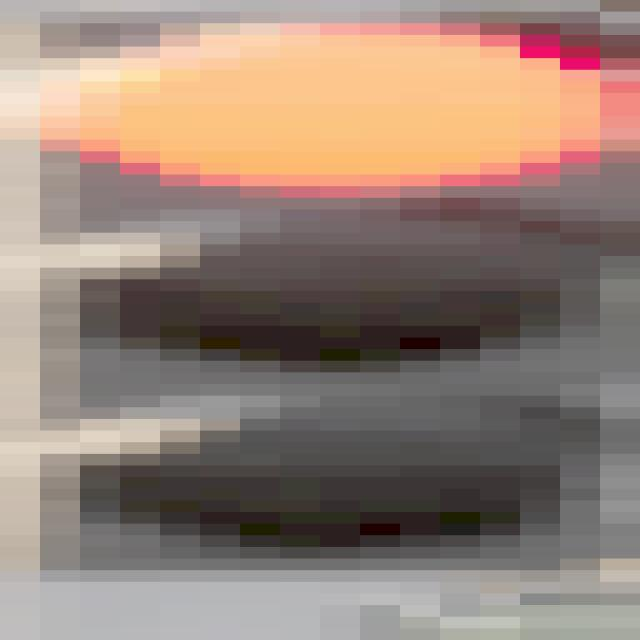red_light: (17, 14, 640, 580)
